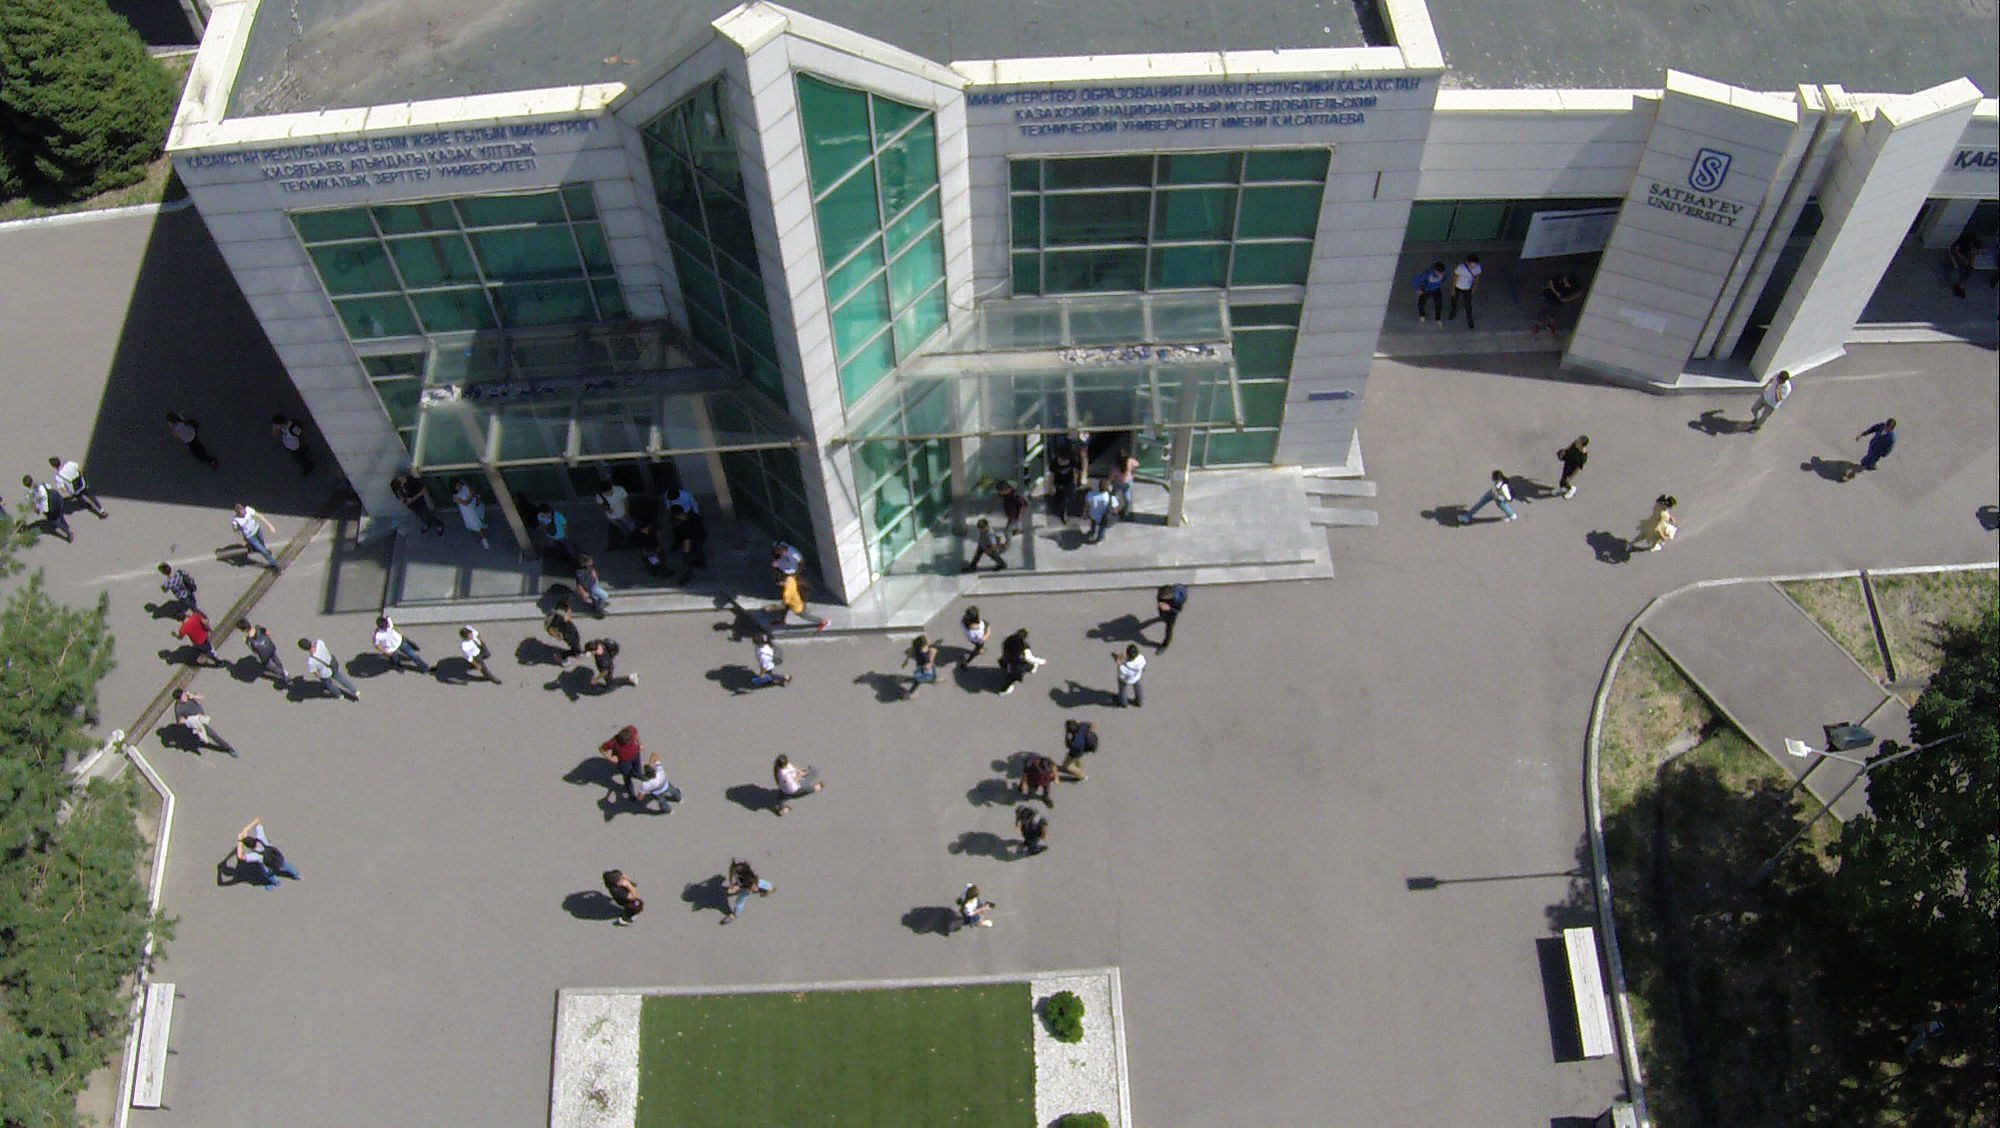person: (232, 815, 303, 895), (170, 689, 237, 760), (298, 634, 364, 705), (388, 469, 447, 544), (370, 612, 435, 677), (772, 570, 834, 636), (48, 456, 107, 522), (236, 616, 291, 685), (721, 854, 774, 928), (232, 502, 283, 576), (1457, 468, 1520, 528), (774, 753, 826, 820), (597, 724, 643, 801), (1749, 364, 1793, 442), (21, 475, 73, 541), (1533, 274, 1584, 340), (633, 753, 684, 819), (585, 634, 639, 695), (169, 609, 222, 670), (541, 597, 589, 666), (1848, 417, 1899, 482), (744, 626, 793, 694), (669, 505, 709, 586), (997, 630, 1046, 697), (897, 632, 943, 699), (456, 622, 505, 686), (167, 411, 218, 471), (1628, 490, 1676, 554), (569, 554, 613, 623), (450, 476, 490, 551), (600, 865, 645, 931), (1549, 431, 1592, 501), (157, 562, 208, 618), (1146, 582, 1184, 657), (270, 413, 314, 478), (1057, 716, 1098, 783), (1449, 255, 1483, 332), (632, 521, 673, 583), (995, 480, 1032, 547), (536, 503, 578, 561), (1082, 479, 1120, 545), (597, 478, 635, 544), (1949, 234, 1984, 303), (1412, 261, 1444, 335), (958, 603, 991, 672), (1045, 451, 1077, 522), (966, 519, 1005, 575), (1018, 753, 1058, 808), (955, 882, 996, 934), (1111, 449, 1141, 520), (1012, 805, 1051, 858), (765, 536, 806, 584), (660, 487, 699, 515)
